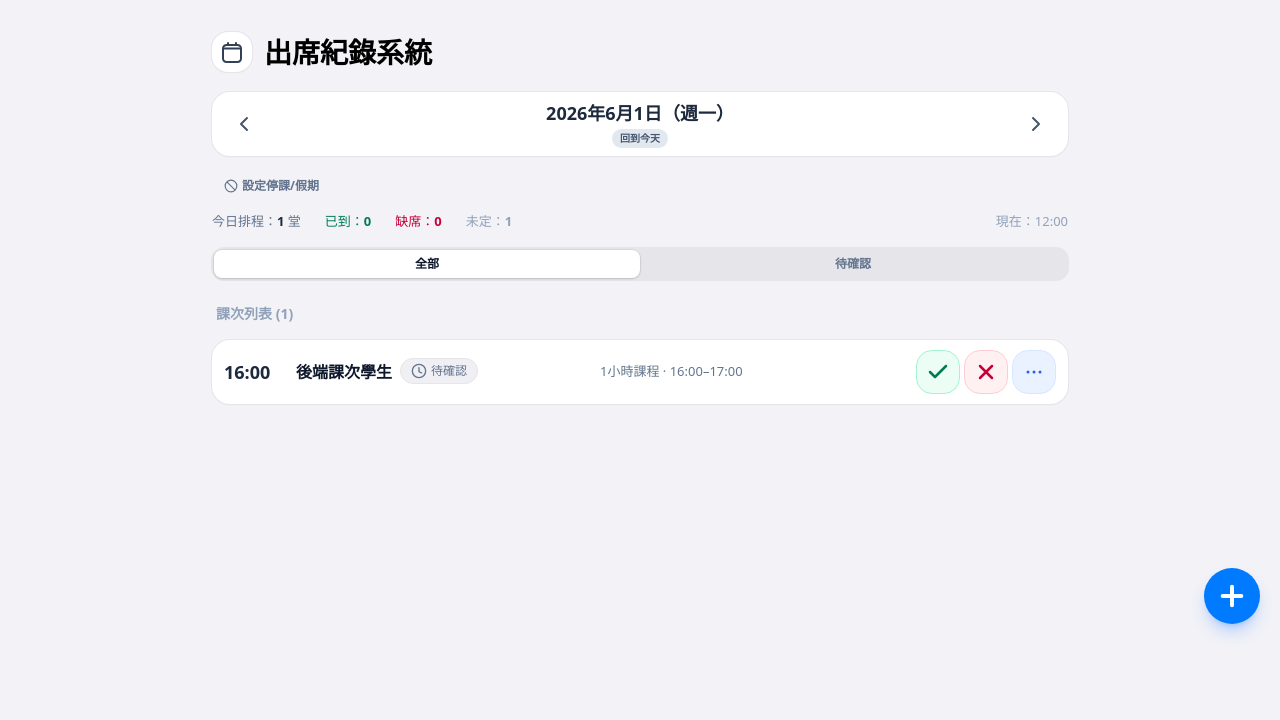
it: TodayPage backend session status updates › sends absent reason and note through backend PATCH
Click the button named "記錄缺席". click: (986, 372)
box: [964,350,1008,394]
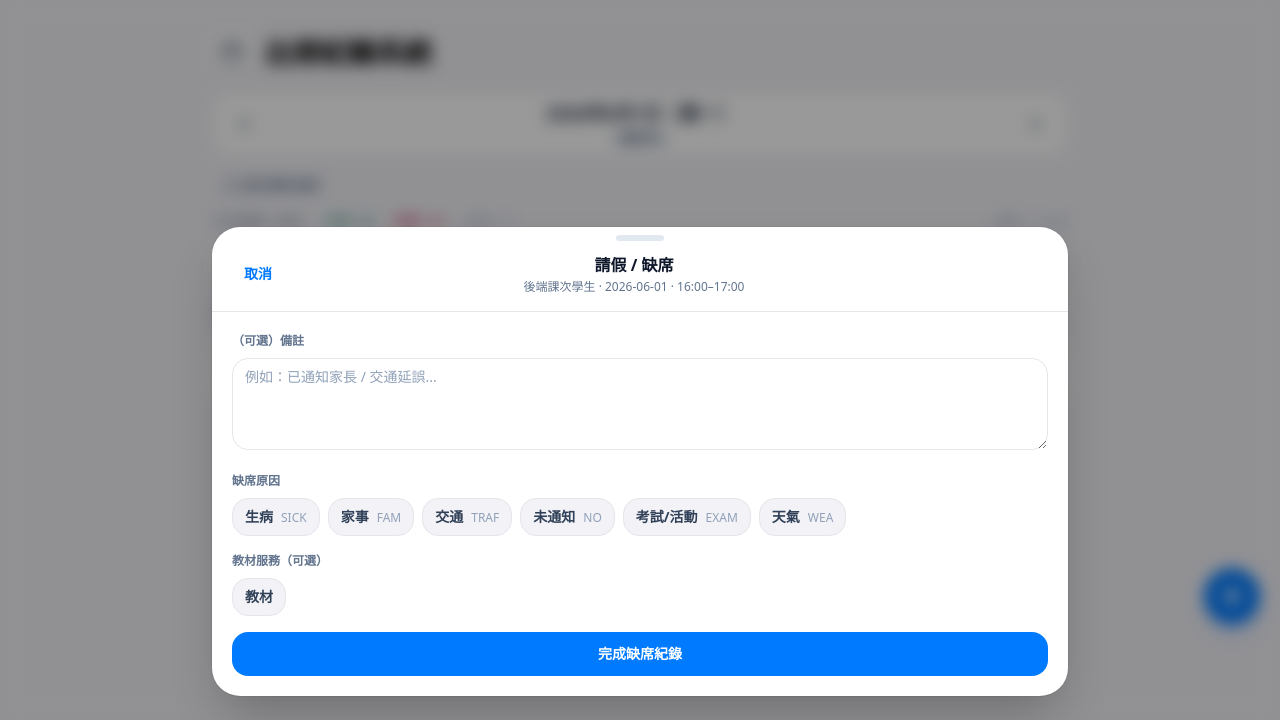
Type "已通知家長" into the text box with placeholder "例如：已通知家長 / 交通延誤...". click: (640, 404)
box: [232,358,1048,450]
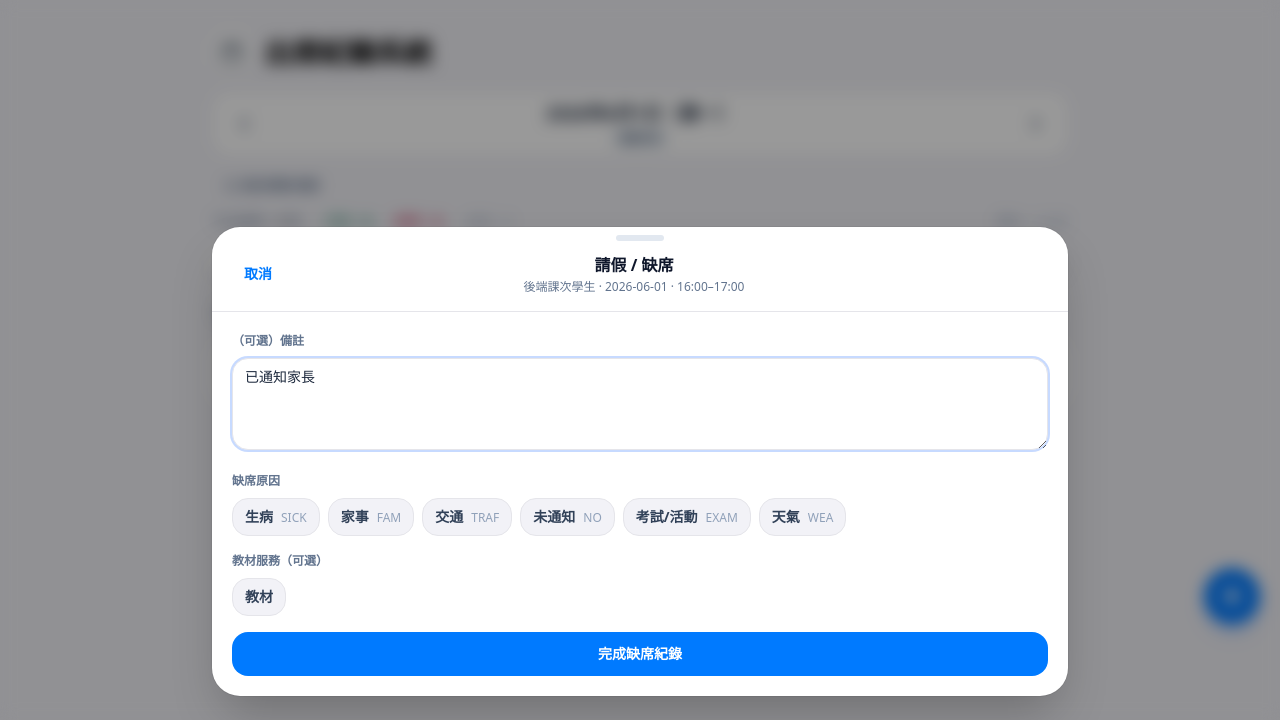
Click the button "生病". click: (276, 517)
box: [232,498,320,536]
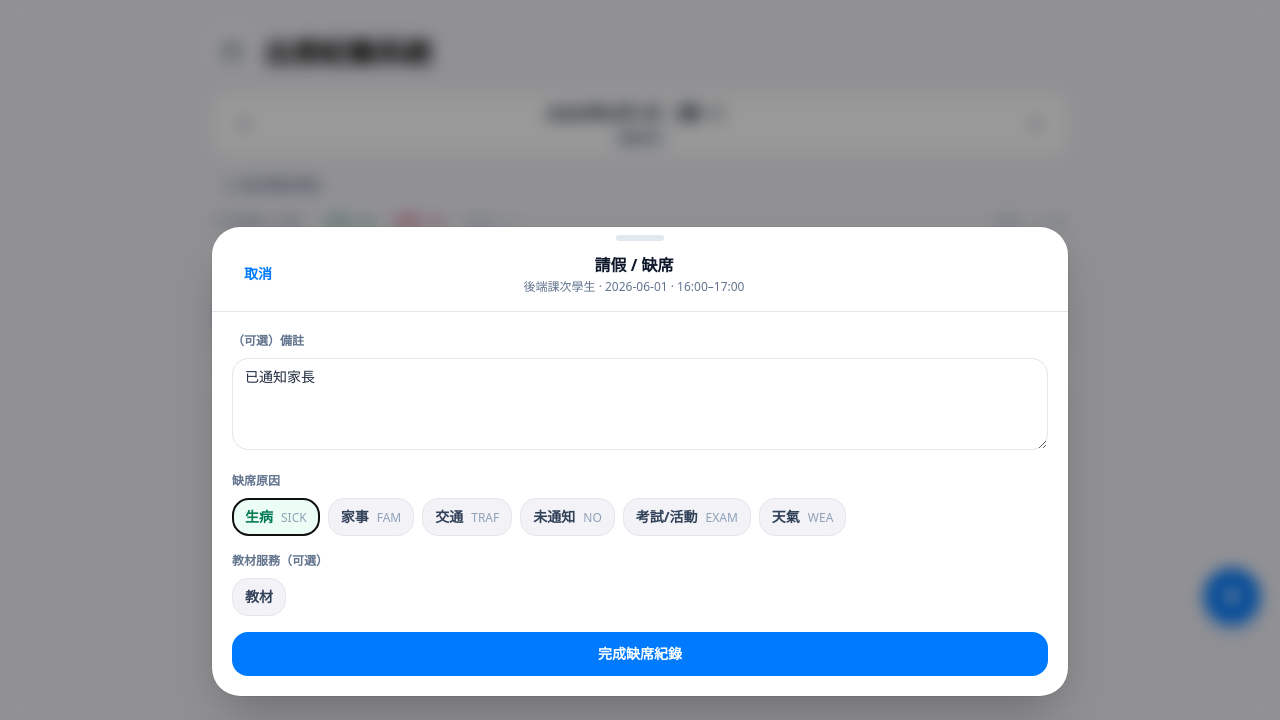
Click the button "完成缺席紀錄". click: (640, 654)
box: [232,632,1048,676]
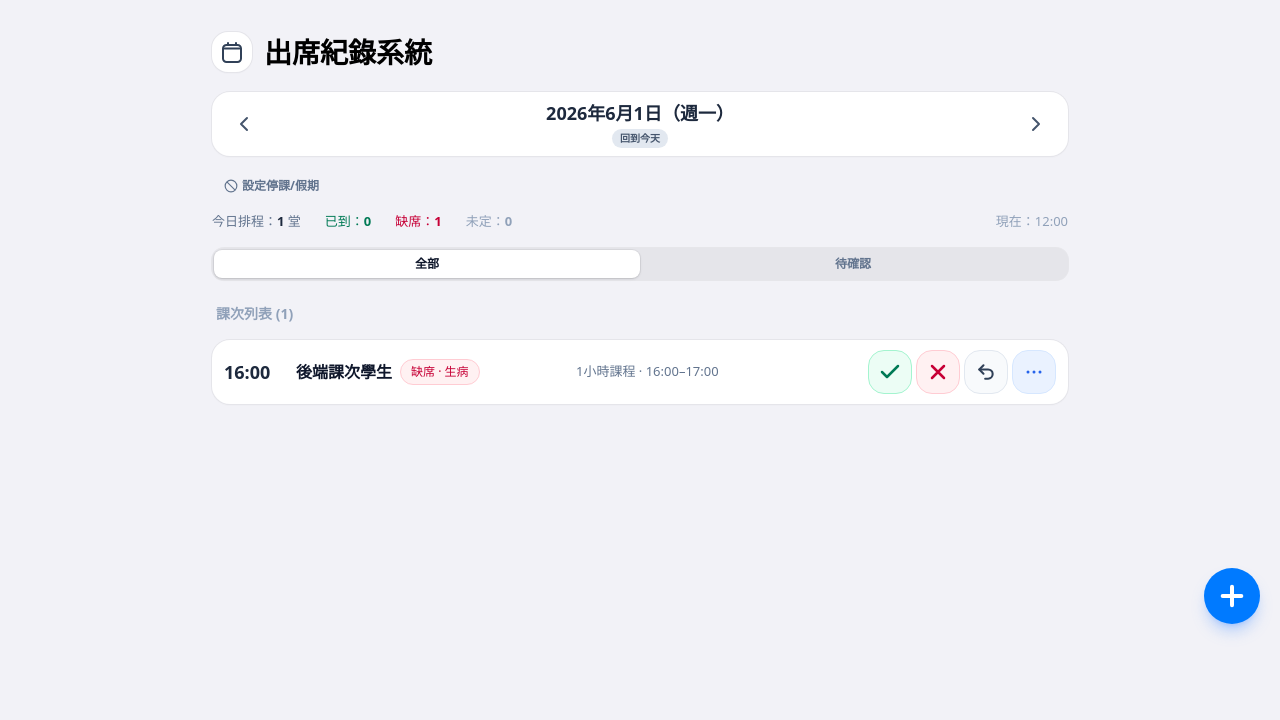
Check: the text "已通知家長" is not shown
Check: the text "缺席 · 生病" is shown, box [400,359,480,385]
